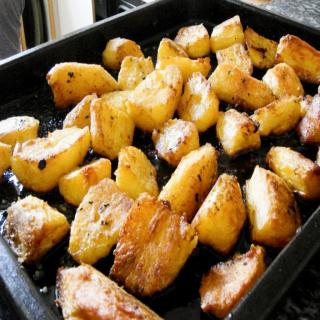Potato: (0, 16, 320, 320)
